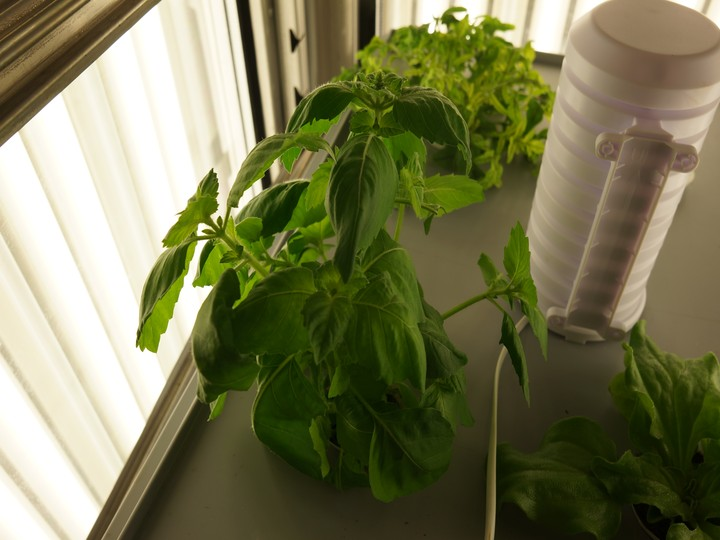basilic_blue_spice: (126, 65, 554, 508)
ficoide_glaciale: (489, 328, 720, 537)
roquette_sauvage_red_veined: (349, 2, 560, 176)
